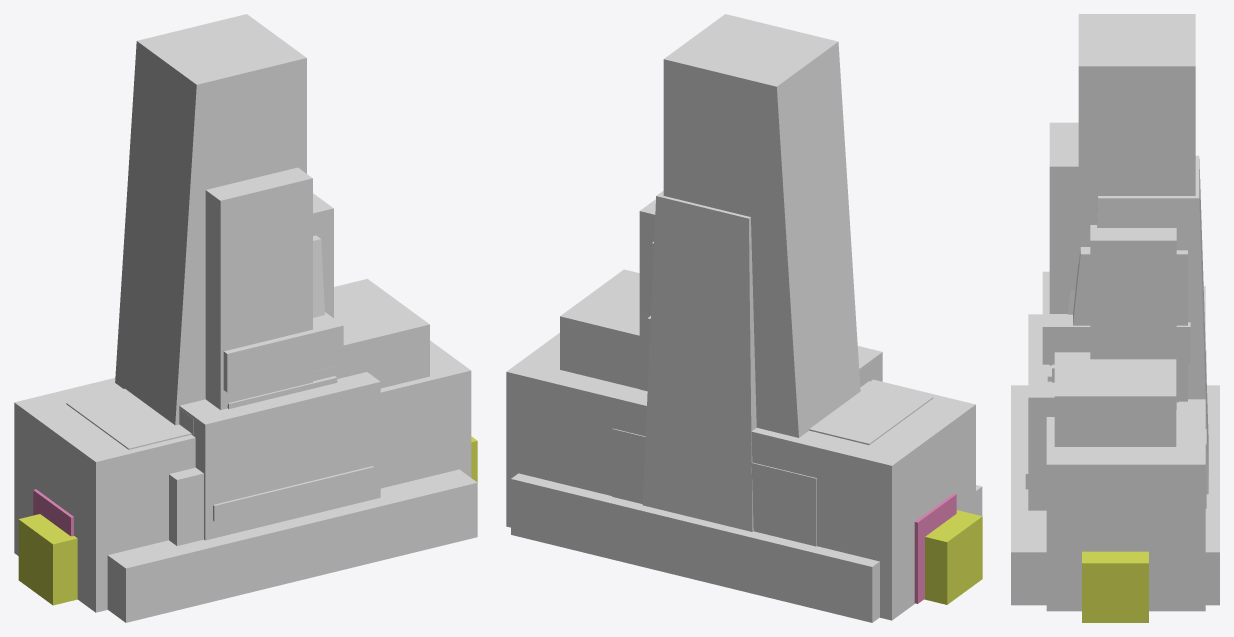
Rendered from Buildings-v5.fbx.
3 renders of one model, left to right at view 1: azimuth 30°, elevation 25°; view 2: azimuth 150°, elevation 25°; view 3: azimuth 270°, elevation 25°, orthographic. The views are drawn at different scales.
Visible parts, largest first — view 1: Building.Main.Type2, Building.Main.Type1, Building.Main.Type6, Building.Main.Type9, Building.Huge.Type1, Building.Main.Type3, Building.Huge.Type5; view 2: Building.Main.Type2, Building.Main.Type1, Building.Main.Type6, Building.Main.Type7, Building.Huge.Type1, Building.Huge.Type5; view 3: Building.Main.Type2, Building.Main.Type1, Building.Main.Type6, Building.Main.Type7, Building.Huge.Type1, Building.Main.Type9, Building.Main.Type3.
Part boxes in pixels (x1,y1,x2,y2): Building.Main.Type2: (115, 14, 333, 545); Building.Main.Type1: (14, 235, 471, 612); Building.Main.Type6: (66, 279, 477, 622); Building.Main.Type9: (223, 312, 343, 408); Building.Huge.Type1: (18, 436, 477, 605); Building.Main.Type3: (213, 366, 373, 521); Building.Huge.Type5: (33, 489, 73, 536); Building.Main.Type2: (612, 14, 860, 546); Building.Main.Type1: (506, 242, 975, 620); Building.Main.Type6: (511, 269, 982, 622); Building.Main.Type7: (642, 191, 870, 531); Building.Huge.Type1: (924, 510, 982, 604); Building.Huge.Type5: (914, 493, 956, 603); Building.Main.Type2: (1049, 14, 1206, 508); Building.Main.Type1: (1028, 247, 1205, 611); Building.Main.Type6: (1011, 352, 1219, 605); Building.Main.Type7: (1067, 155, 1208, 494); Building.Huge.Type1: (1082, 551, 1148, 622); Building.Main.Type9: (1042, 271, 1190, 381); Building.Main.Type3: (1025, 364, 1178, 489).
Size of the model in its own units: 10998 by 12128 by 4807.
